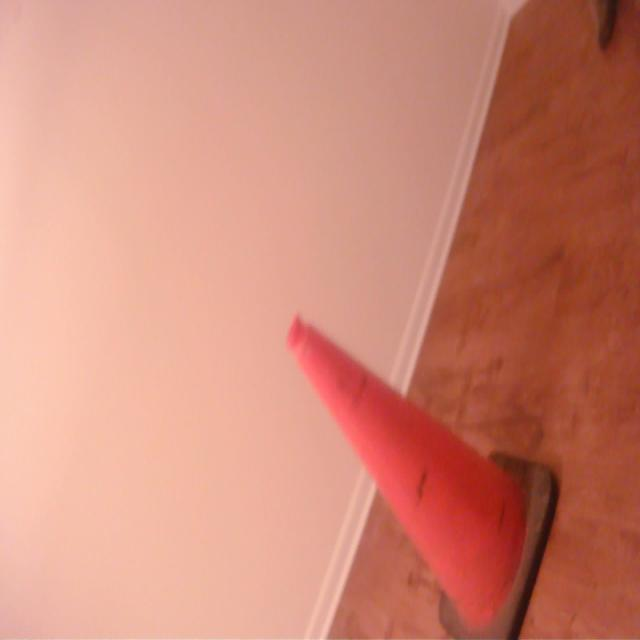traffic cone: (283, 310, 561, 640)
